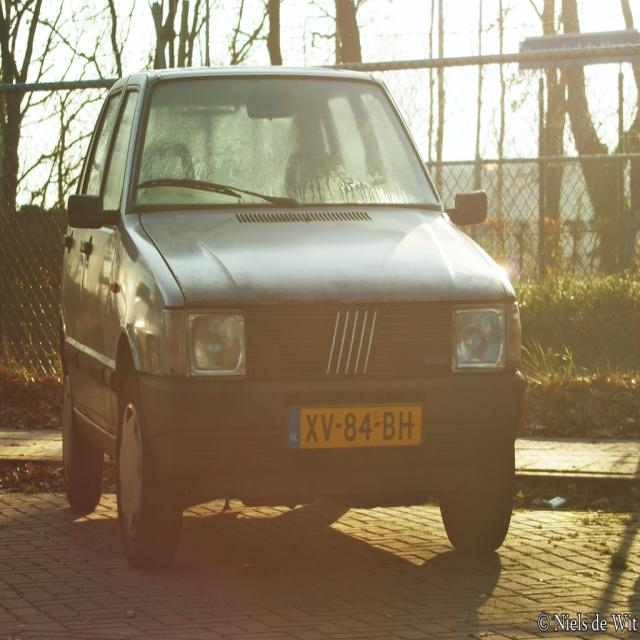car: (58, 63, 524, 574)
